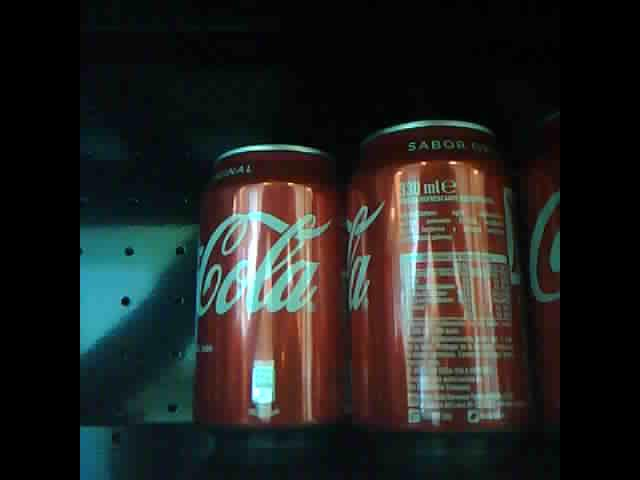coca cola: (341, 116, 531, 438), (196, 134, 344, 435), (512, 132, 559, 431)
